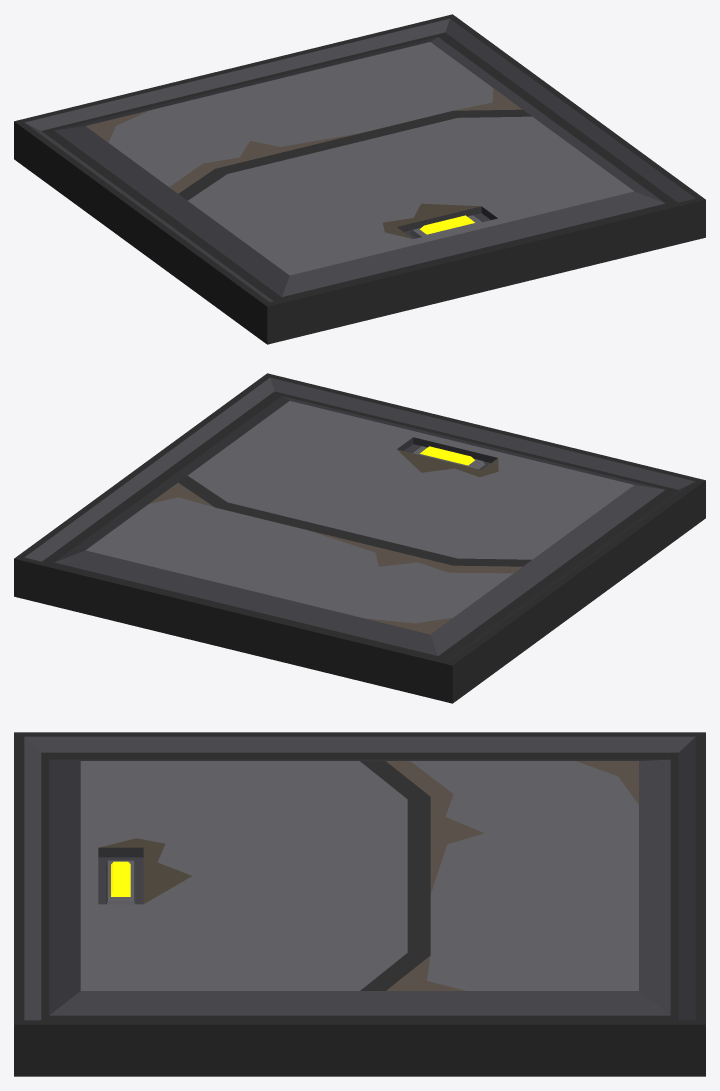
Rendered from SM_Bld_Floor_Small_08.fbx.
3 renders of one model, top to bottom at view 1: azimuth 30°, elevation 25°; view 2: azimuth 150°, elevation 25°; view 3: azimuth 270°, elevation 25°, orthographic. The views are drawn at different scales.
Parts seen in each view (by area): view 1: SM_Bld_Floor_Small_08_LOD0; view 2: SM_Bld_Floor_Small_08_LOD0; view 3: SM_Bld_Floor_Small_08_LOD0.
Part boxes in pixels (x1,y1,x2,y2): SM_Bld_Floor_Small_08_LOD0: [14, 14, 705, 344]; SM_Bld_Floor_Small_08_LOD0: [14, 373, 705, 703]; SM_Bld_Floor_Small_08_LOD0: [14, 732, 705, 1076].
Bounding box in the file's own units: 250 × 250 × 21.82.
Materials: 1 (1 with a texture image).
